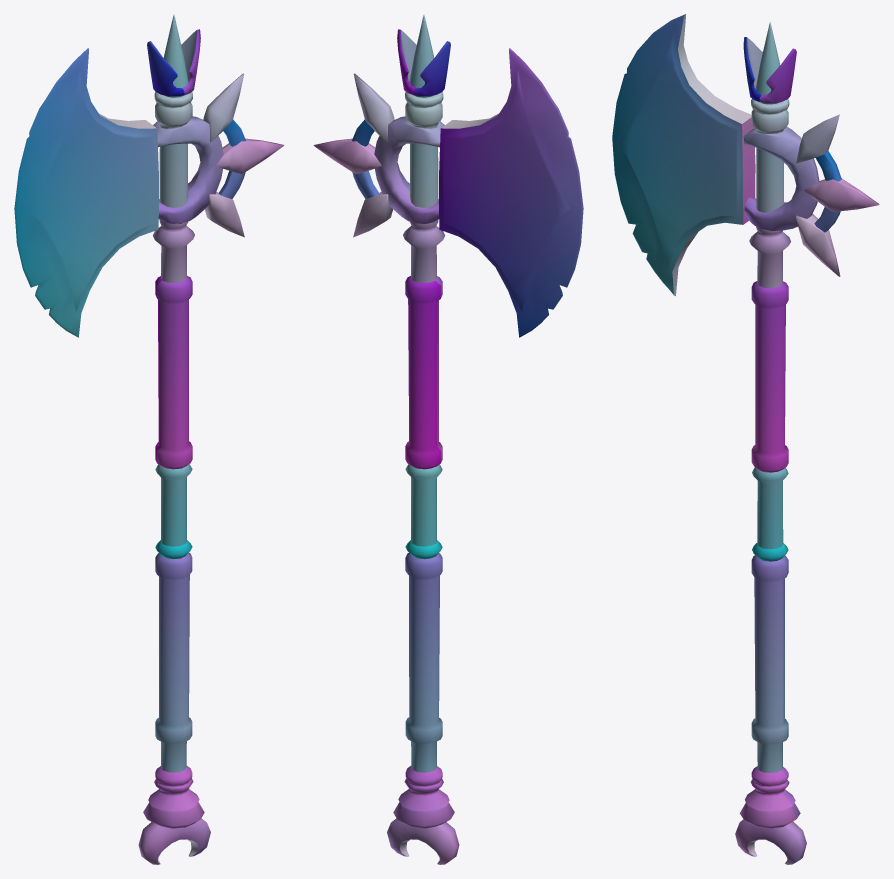
The picture shows the model from 3 angles, left to right: view 1: azimuth 30°, elevation 25°; view 2: azimuth 150°, elevation 25°; view 3: azimuth 330°, elevation 25°; orthographic projection.
Visible parts, largest first — view 1: SM_Greataxe_Mithril_2H_01_LOD0; view 2: SM_Greataxe_Mithril_2H_01_LOD0; view 3: SM_Greataxe_Mithril_2H_01_LOD0.
Boxes of the visible parts, x1=… form: SM_Greataxe_Mithril_2H_01_LOD0: x1=14, y1=14, x2=284, y2=864; SM_Greataxe_Mithril_2H_01_LOD0: x1=313, y1=14, x2=583, y2=864; SM_Greataxe_Mithril_2H_01_LOD0: x1=612, y1=14, x2=879, y2=864.
Size of the model in its own units: 0.5588 by 1.68 by 0.1108.
